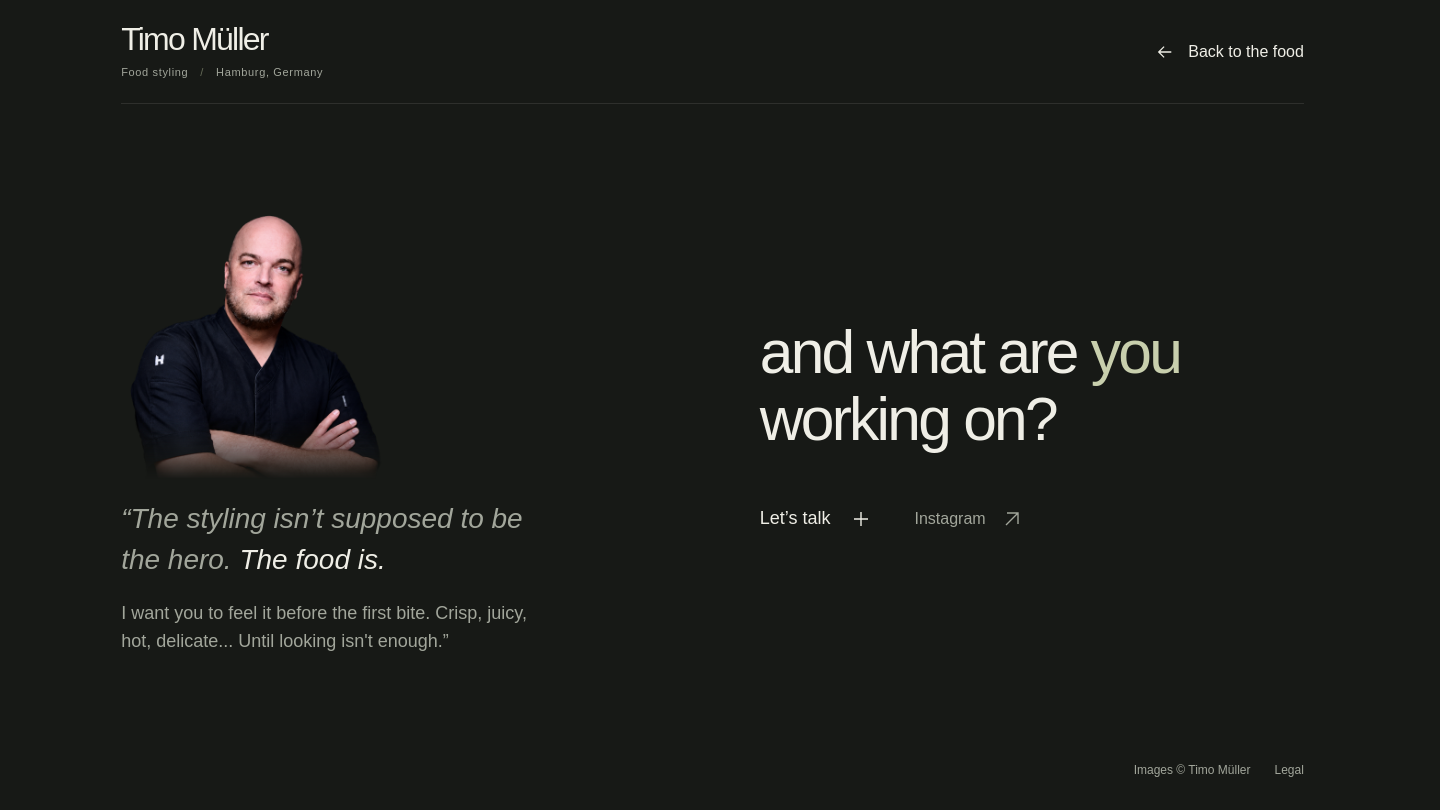
Scenario: contact › is a separate page, with a return link and details revealed only on request
Expected: the text "[Phone number]" is not shown
Expected: the text "[Email address]" is not shown
Step 1. Click the button with aria-label "Let’s talk: show phone and email" → (815, 519), box [760, 496, 870, 541]
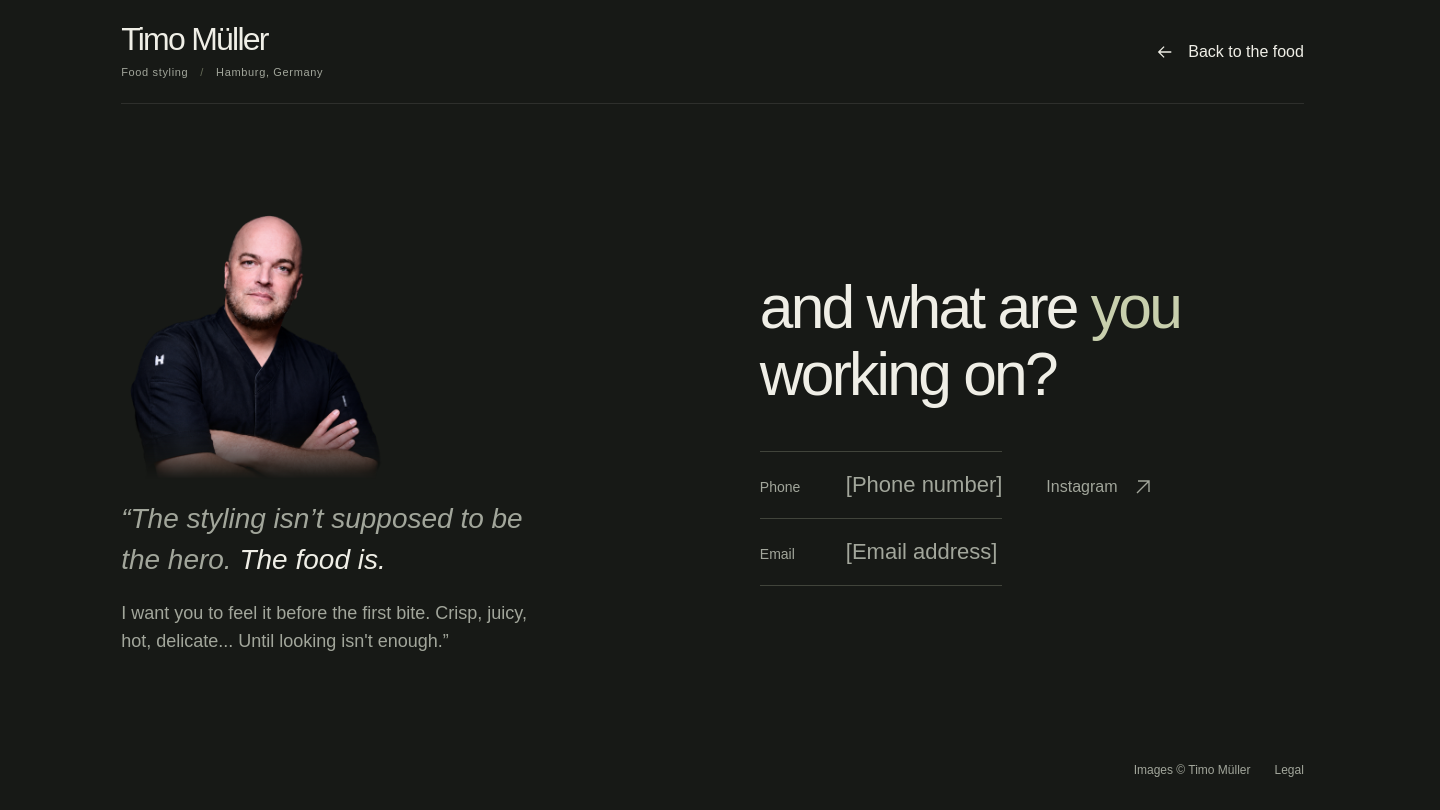
Result: the text "[Phone number]" is shown at [846, 472, 1002, 497]
Result: the text "[Email address]" is shown at [846, 539, 997, 564]
Result: the button "Let’s talk" is gone
